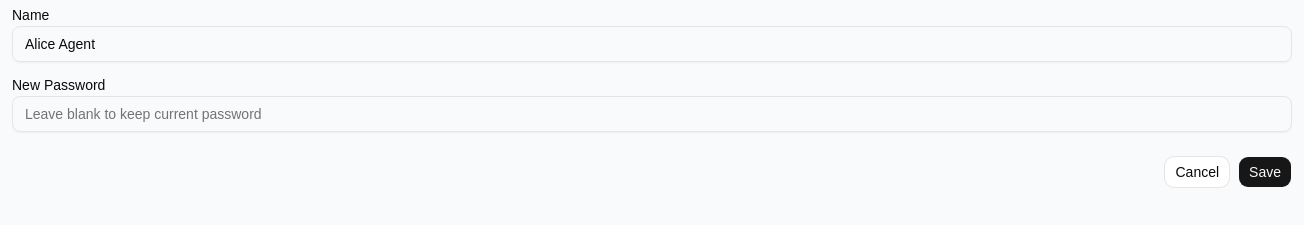
Test: EditUserForm › validation › shows 'Name is required' and does not submit when name is cleared
Clear the field labelled "Name" at (652, 44), box [12,26,1292,62]
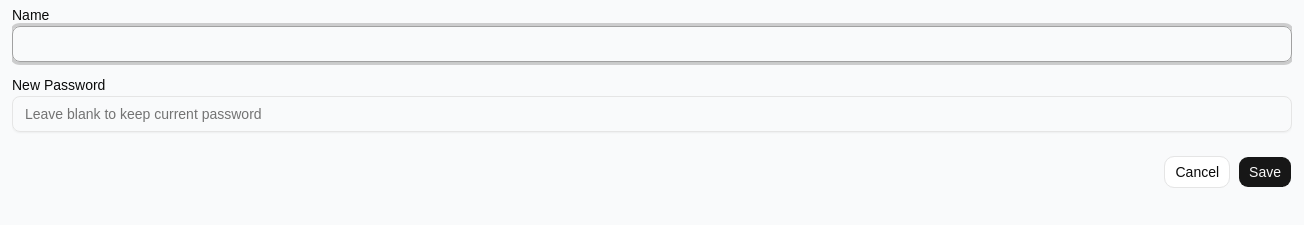
Click the button "Save" at (1265, 172), box [1238,156,1292,188]
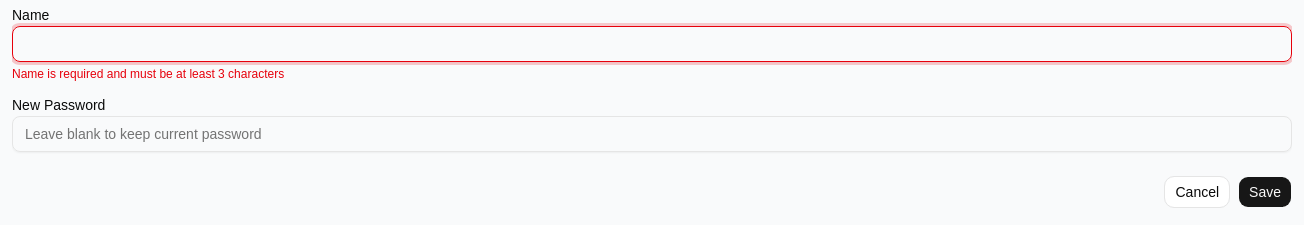
Expected: the text "Name is required and must be at least 3 characters" is shown, [12,67,284,81]
